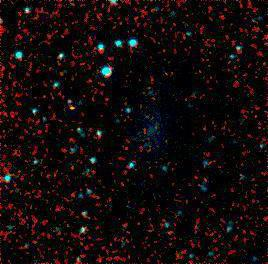star: (64, 87, 94, 117)
